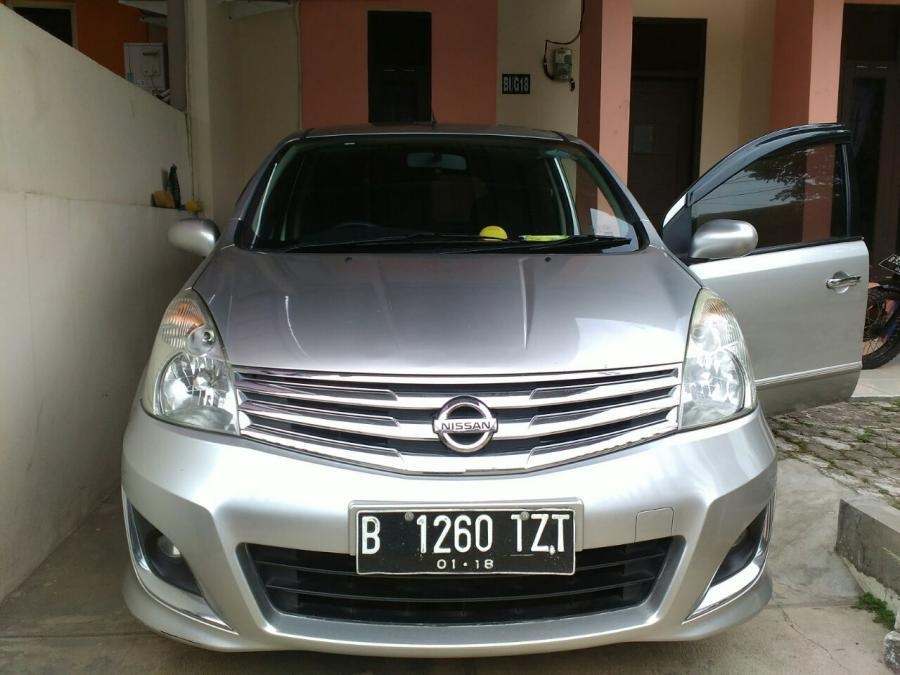plate: (360, 511, 573, 573)
